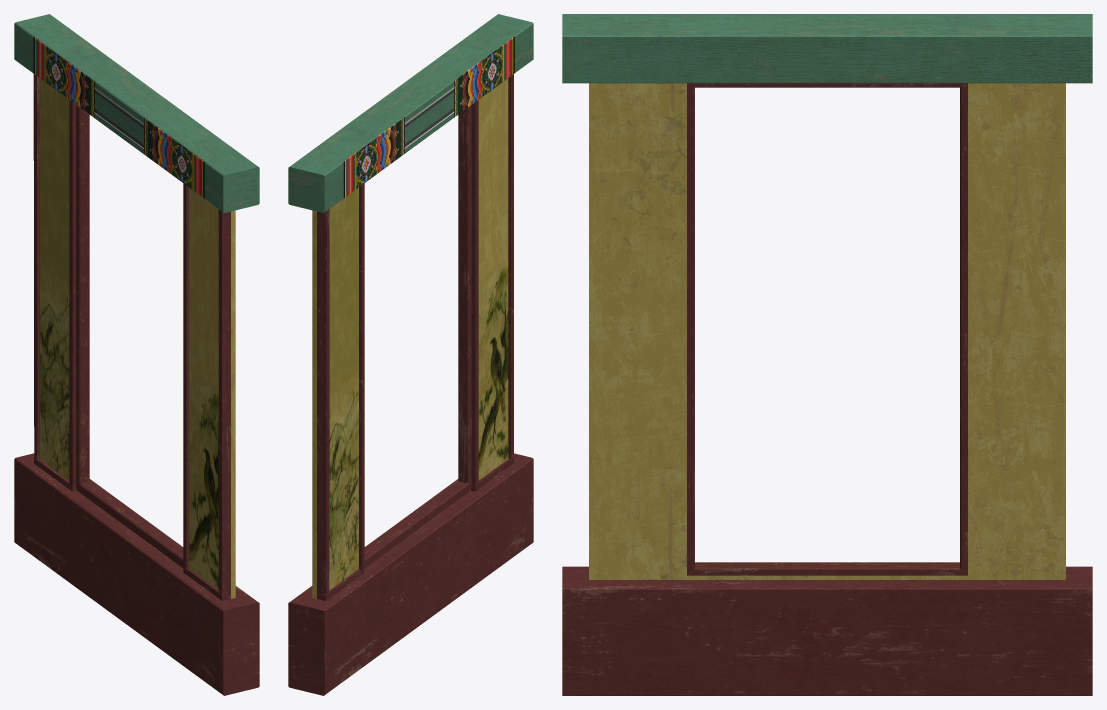
File: SM_Wall01a.fbx
3 views of the same model, side by side, from view 1: azimuth 30°, elevation 25°; view 2: azimuth 150°, elevation 25°; view 3: azimuth 270°, elevation 25° (orthographic). The views are drawn at different scales.
Parts seen in each view (by area): view 1: SM_Wall01a; view 2: SM_Wall01a; view 3: SM_Wall01a.
Boxes of the visible parts, x1,y1,x2,y2 form: SM_Wall01a: (14,14,259,695); SM_Wall01a: (288,14,533,695); SM_Wall01a: (562,14,1092,695).
Bounding box in the file's own units: 20 × 275 × 200.
